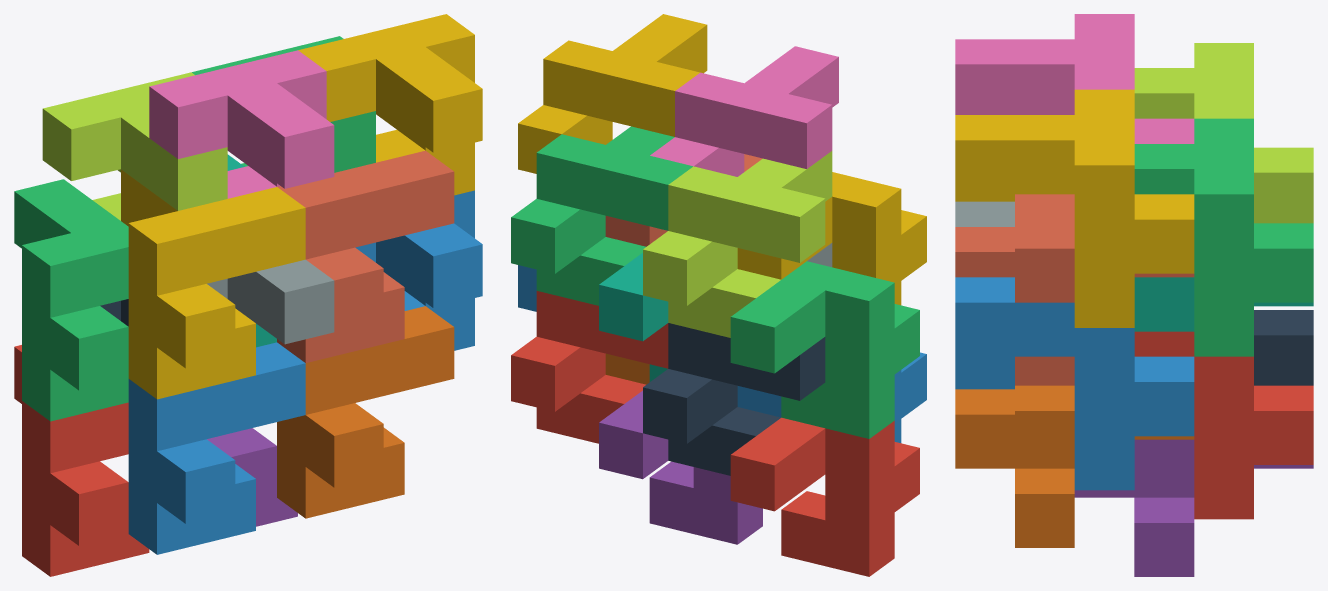
File: tiling.obj
The picture shows the model from 3 angles, left to right: view 1: azimuth 30°, elevation 25°; view 2: azimuth 150°, elevation 25°; view 3: azimuth 270°, elevation 25°; orthographic projection. The views are drawn at different scales.
Parts seen in each view (by area): view 1: copy_1_domain_4, copy_1_domain_3, copy_1_domain_2, copy_1_domain_6, copy_1_domain_8, copy_2_domain_4, copy_2_domain_8, copy_1_domain_1, copy_2_domain_3, copy_2_domain_6, copy_2_domain_2, copy_1_domain_5 (+1 smaller); view 2: copy_2_domain_3, copy_1_domain_3, copy_1_domain_1, copy_2_domain_7, copy_2_domain_8, copy_2_domain_4, copy_2_domain_1, copy_2_domain_5, copy_1_domain_5, copy_1_domain_4, copy_1_domain_7, copy_1_domain_2 (+3 smaller); view 3: copy_2_domain_8, copy_2_domain_6, copy_2_domain_7, copy_2_domain_5, copy_2_domain_4, copy_1_domain_6, copy_2_domain_3, copy_1_domain_8, copy_1_domain_5, copy_2_domain_1, copy_1_domain_7, copy_1_domain_2 (+2 smaller).
Boxes of the visible parts, left/top/right/bottom form: copy_1_domain_4: left=121, top=169, right=305, bottom=399; copy_1_domain_3: left=14, top=179, right=128, bottom=421; copy_1_domain_2: left=128, top=342, right=305, bottom=554; copy_1_domain_6: left=277, top=306, right=454, bottom=518; copy_1_domain_8: left=277, top=150, right=454, bottom=362; copy_2_domain_4: left=149, top=50, right=334, bottom=198; copy_2_domain_8: left=298, top=14, right=482, bottom=195; copy_1_domain_1: left=14, top=345, right=149, bottom=576; copy_2_domain_3: left=42, top=72, right=227, bottom=220; copy_2_domain_6: left=355, top=190, right=482, bottom=350; copy_2_domain_2: left=207, top=259, right=334, bottom=344; copy_1_domain_5: left=207, top=428, right=297, bottom=526; copy_2_domain_3: left=643, top=151, right=832, bottom=337; copy_1_domain_3: left=730, top=261, right=919, bottom=438; copy_1_domain_1: left=730, top=417, right=919, bottom=576; copy_2_domain_7: left=511, top=126, right=692, bottom=305; copy_2_domain_8: left=518, top=14, right=707, bottom=173; copy_2_domain_4: left=650, top=46, right=838, bottom=176; copy_2_domain_1: left=643, top=323, right=825, bottom=475; copy_2_domain_5: left=511, top=291, right=668, bottom=443; copy_1_domain_5: left=599, top=390, right=762, bottom=544; copy_1_domain_4: left=737, top=172, right=926, bottom=305; copy_1_domain_7: left=599, top=253, right=668, bottom=381; copy_1_domain_2: left=737, top=352, right=926, bottom=442; copy_2_domain_8: left=955, top=89, right=1194, bottom=327; copy_2_domain_6: left=955, top=277, right=1194, bottom=490; copy_2_domain_7: left=1134, top=118, right=1313, bottom=356; copy_2_domain_5: left=1134, top=331, right=1313, bottom=519; copy_2_domain_4: left=955, top=14, right=1194, bottom=143; copy_1_domain_6: left=955, top=385, right=1194, bottom=547; copy_2_domain_3: left=1134, top=43, right=1313, bottom=223; copy_1_domain_8: left=955, top=194, right=1194, bottom=385; copy_1_domain_5: left=1074, top=439, right=1313, bottom=576; copy_2_domain_1: left=1254, top=310, right=1313, bottom=385; copy_1_domain_7: left=1134, top=277, right=1313, bottom=331; copy_1_domain_2: left=955, top=356, right=1014, bottom=389.
Size of the model in its own units: 8 by 9 by 6.
